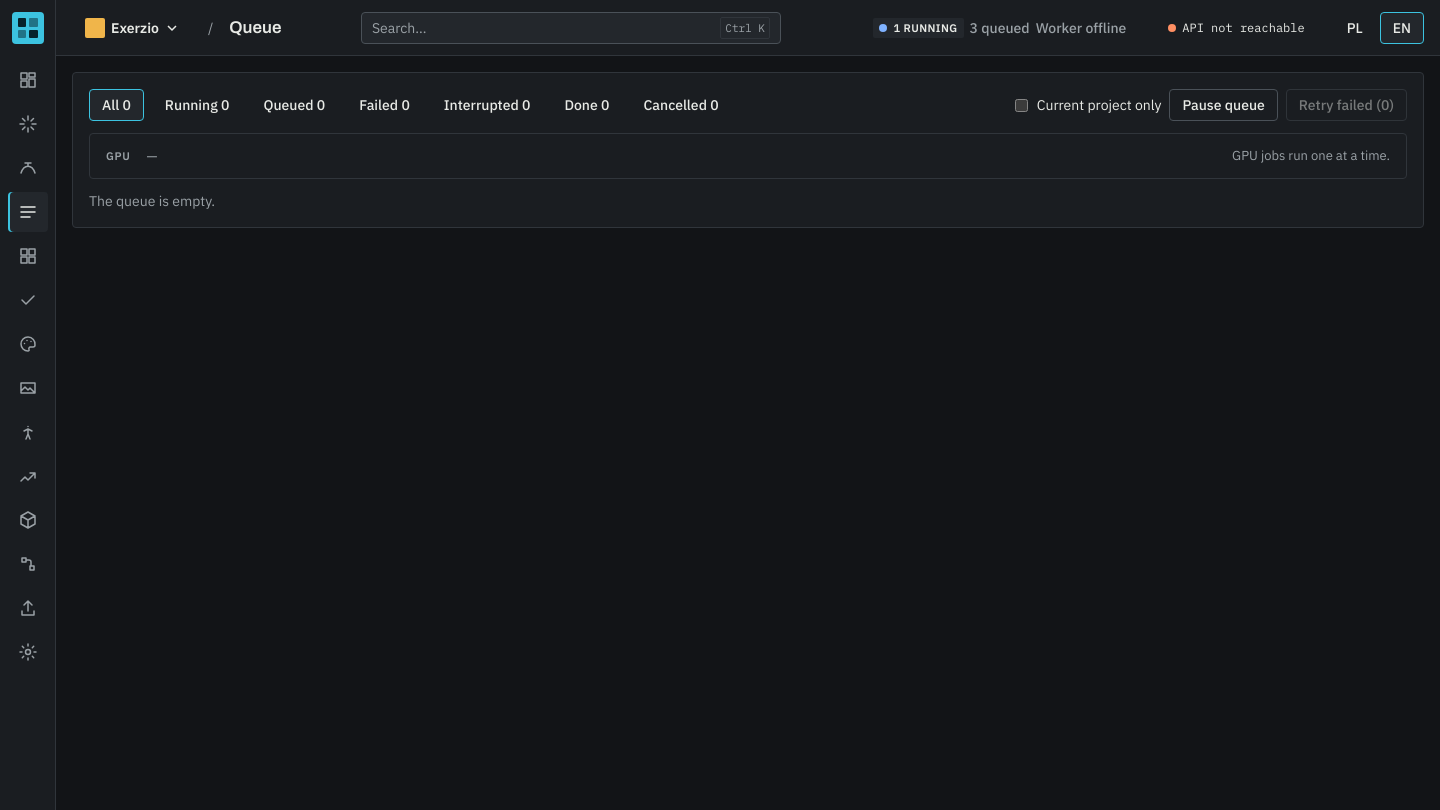
Scenario: Settings › pauses the queue from the Queue screen
Click the button "Pause queue" at point(1224, 105), box [1169,89,1278,121]
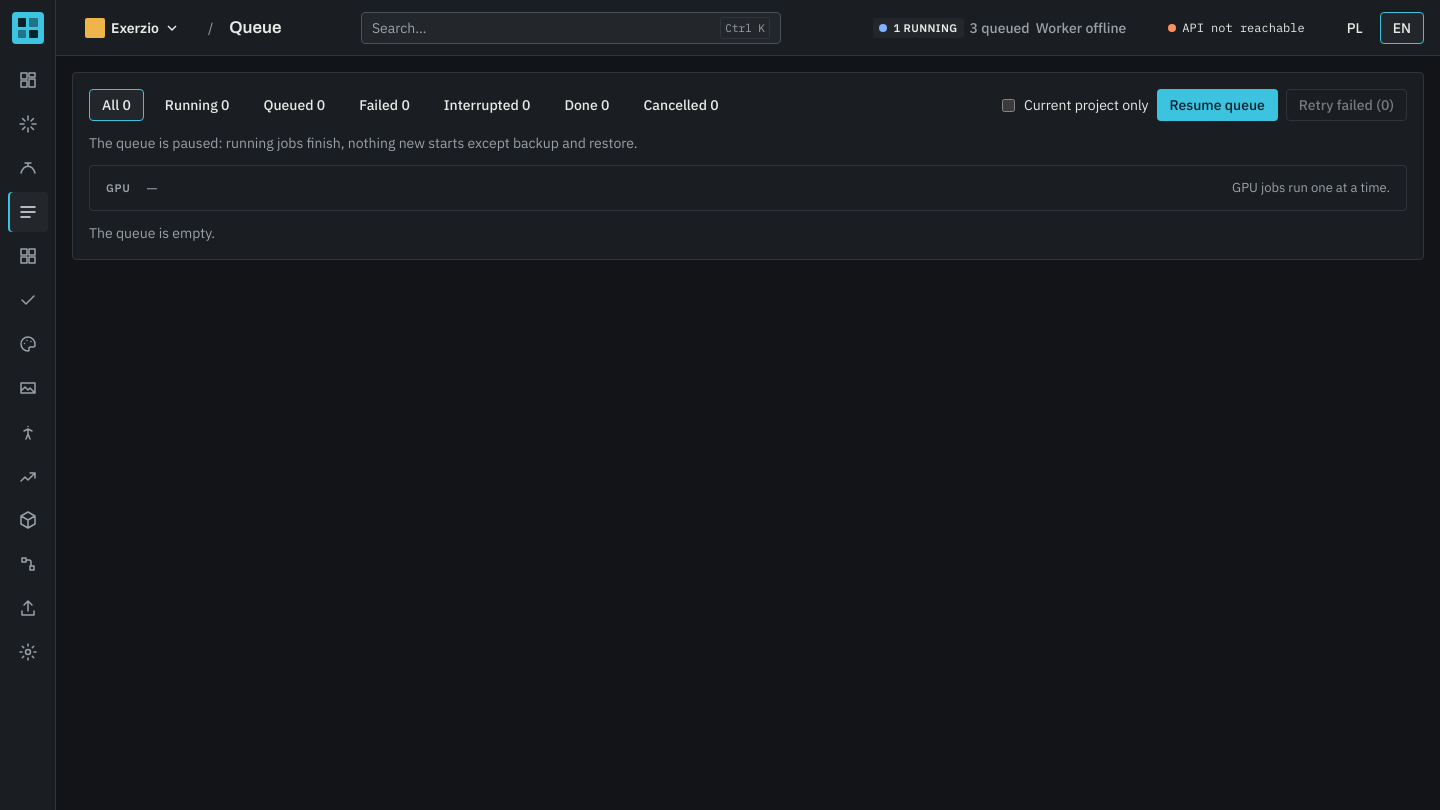
Expected: the button "Resume queue" is shown, [1157,89,1278,121]
